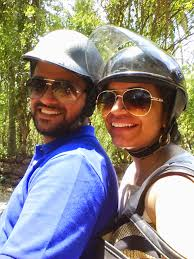helmet: (96, 34, 186, 149)
